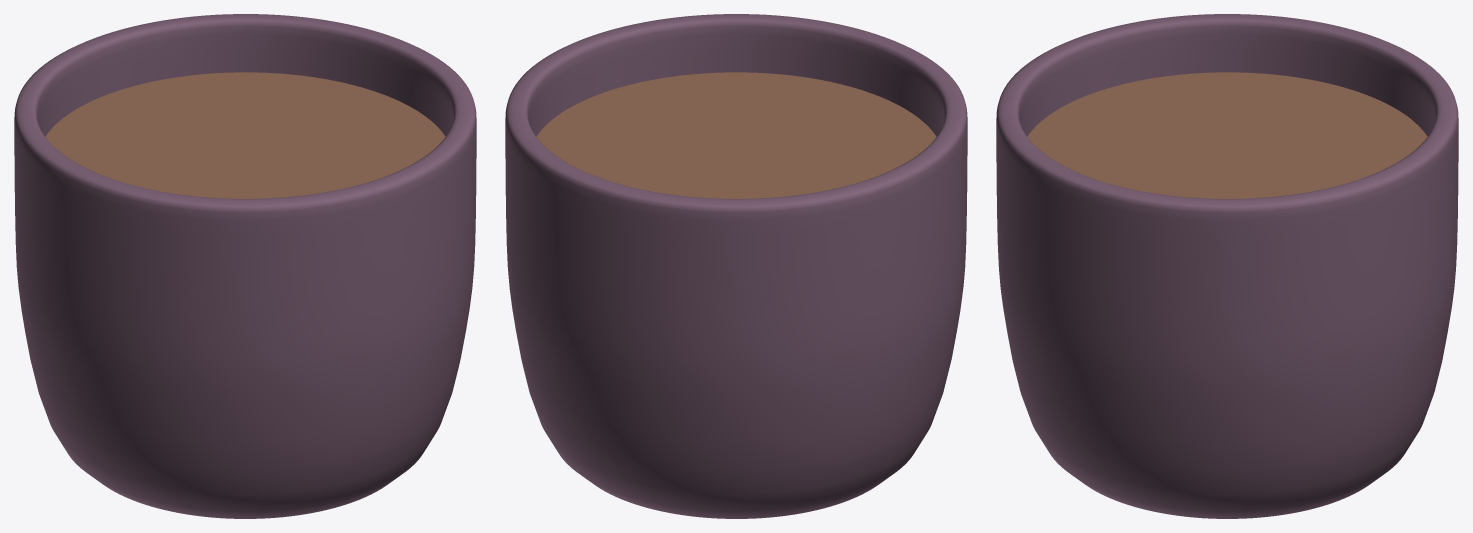
File: basic_purple.glb
The picture shows the model from 3 angles, left to right: view 1: azimuth 30°, elevation 25°; view 2: azimuth 150°, elevation 25°; view 3: azimuth 270°, elevation 25°; orthographic projection.
Visible parts, largest first — view 1: Circle.002, Circle.001; view 2: Circle.002, Circle.001; view 3: Circle.002, Circle.001.
Part boxes in pixels (box(x1,y1,x2,y2)): Circle.002: box(14, 14, 476, 518); Circle.001: box(45, 72, 445, 198); Circle.002: box(505, 14, 967, 518); Circle.001: box(536, 72, 936, 198); Circle.002: box(996, 14, 1458, 518); Circle.001: box(1027, 72, 1427, 198).
Size of the model in its own units: 11.86 by 10.04 by 11.86.
